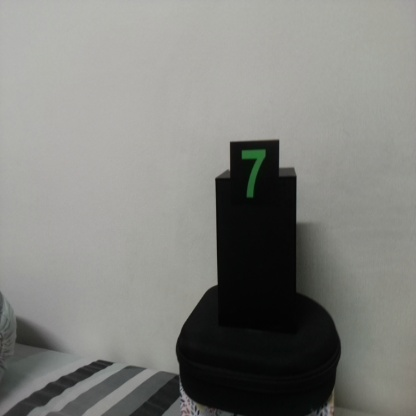id_7: (231, 142, 279, 216)
